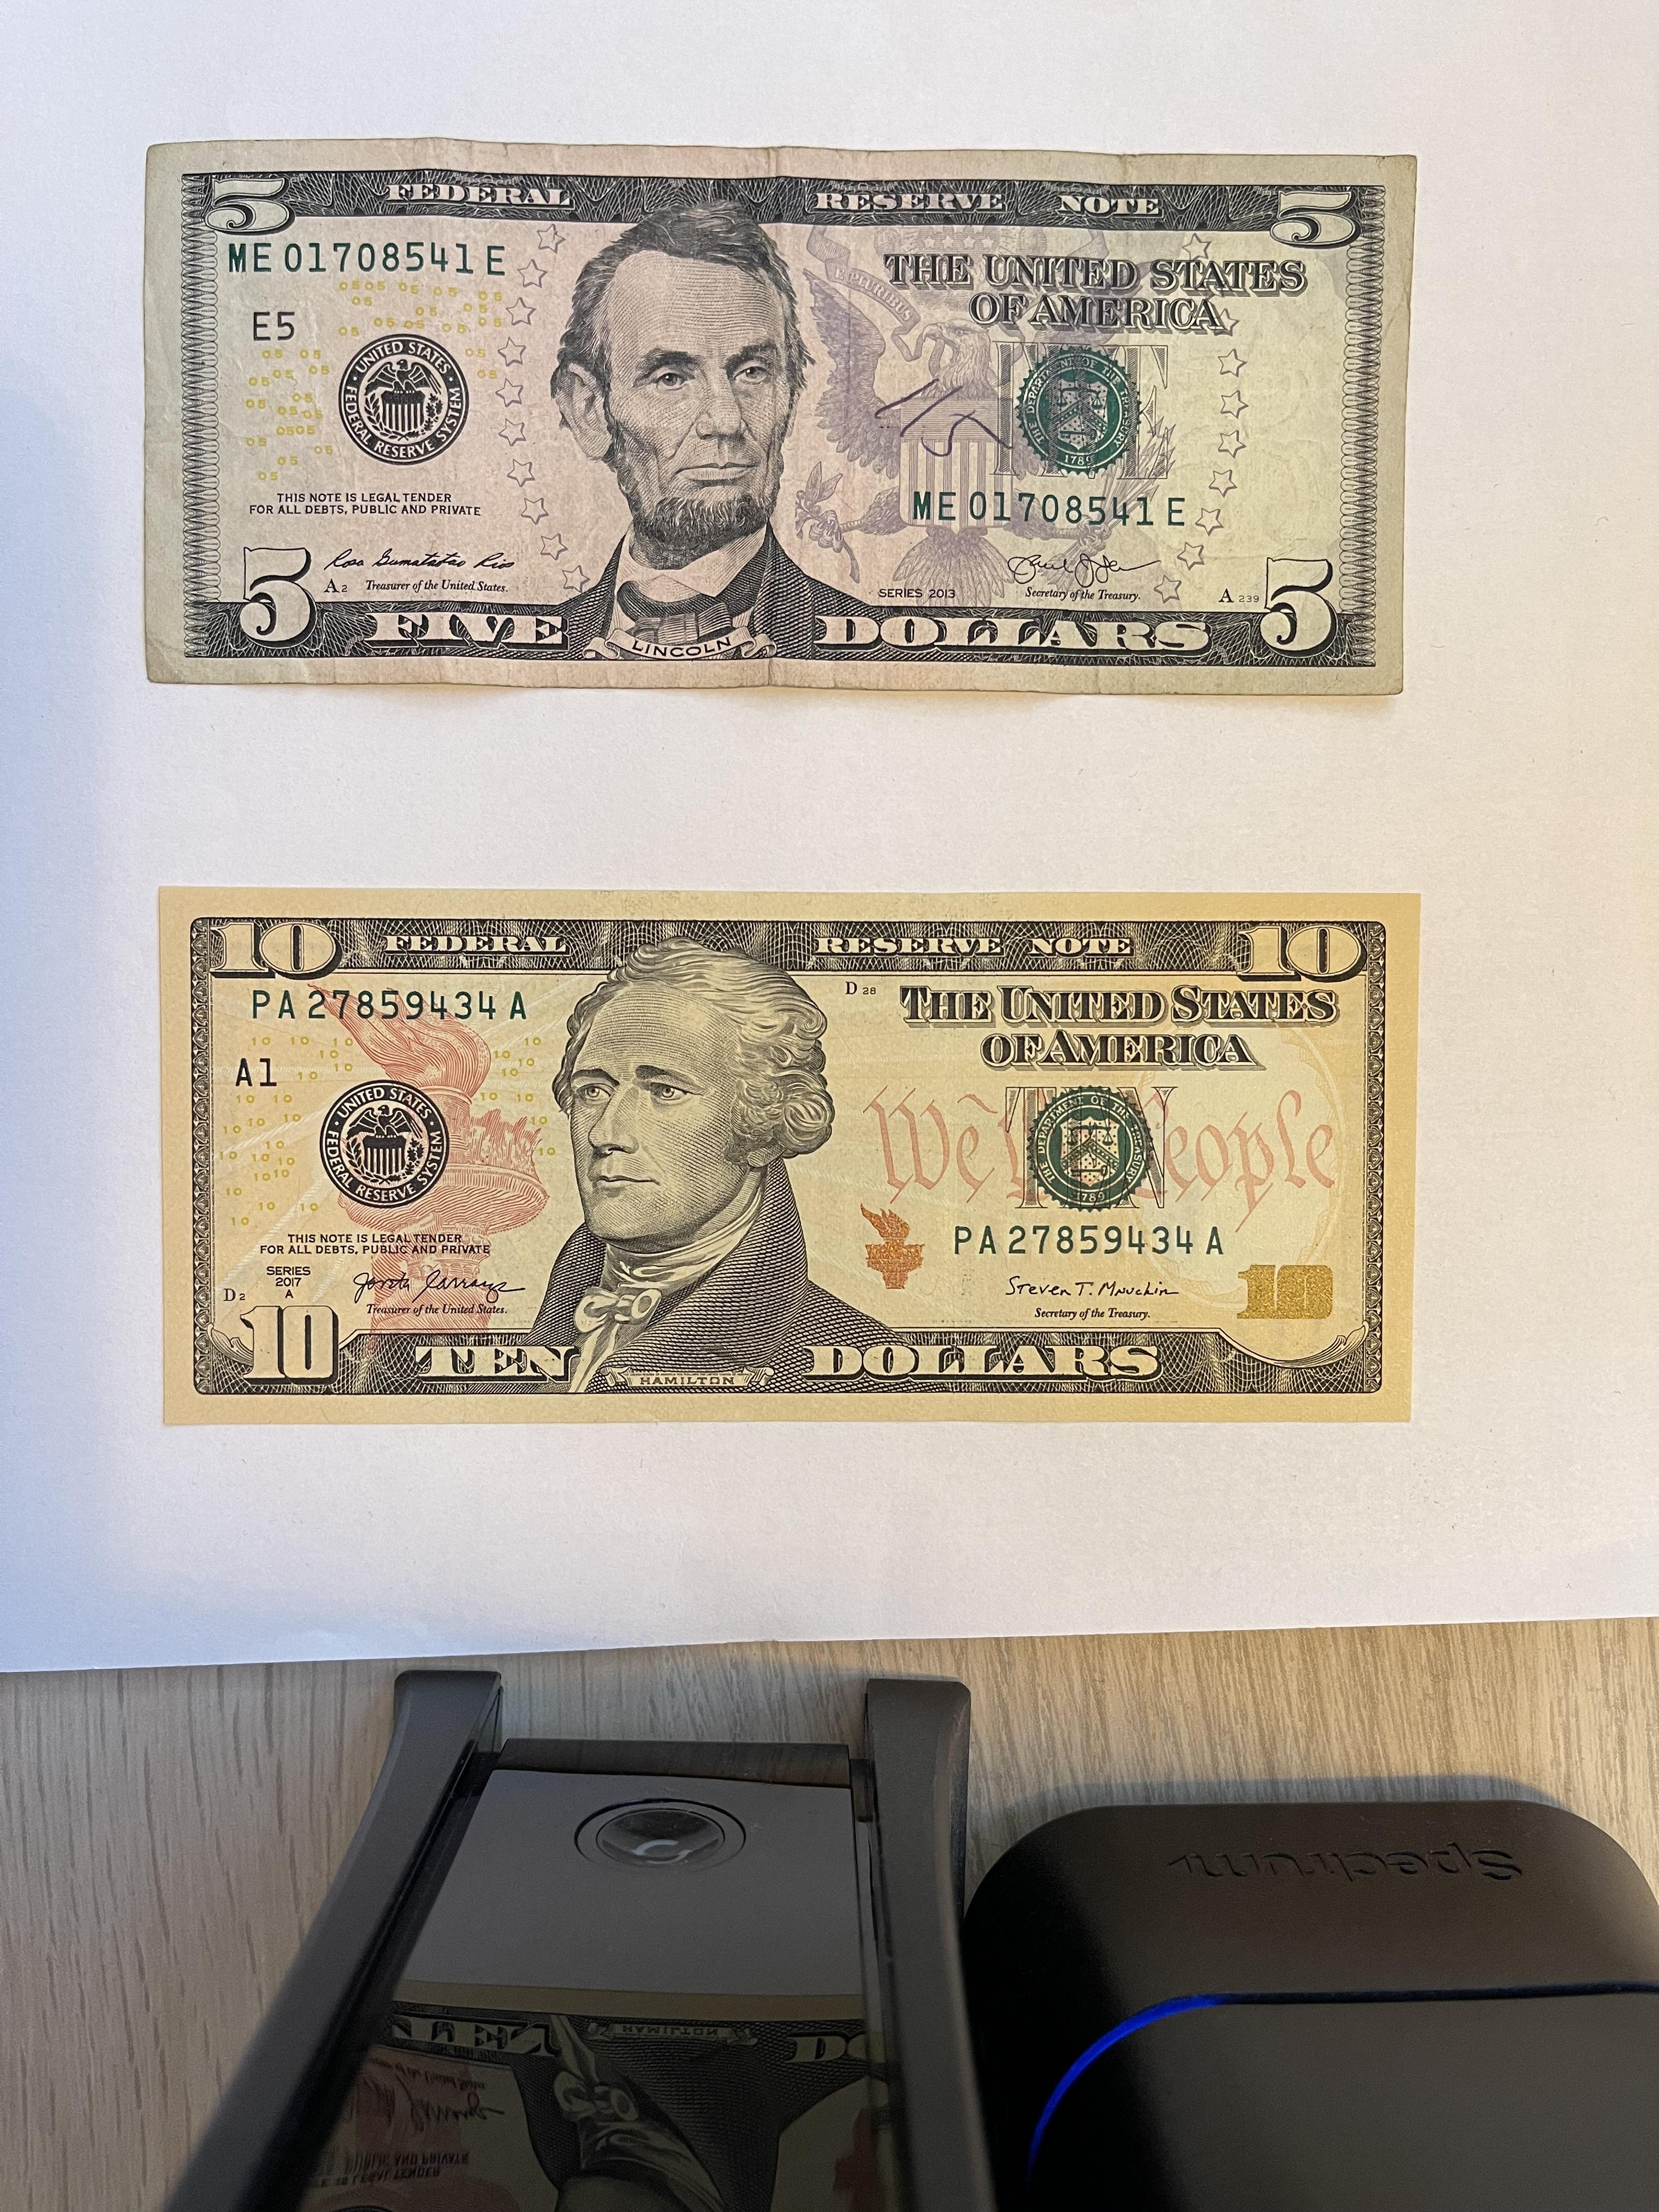FiveBill: (141, 134, 1420, 704)
TenBill: (153, 883, 1424, 1433)
